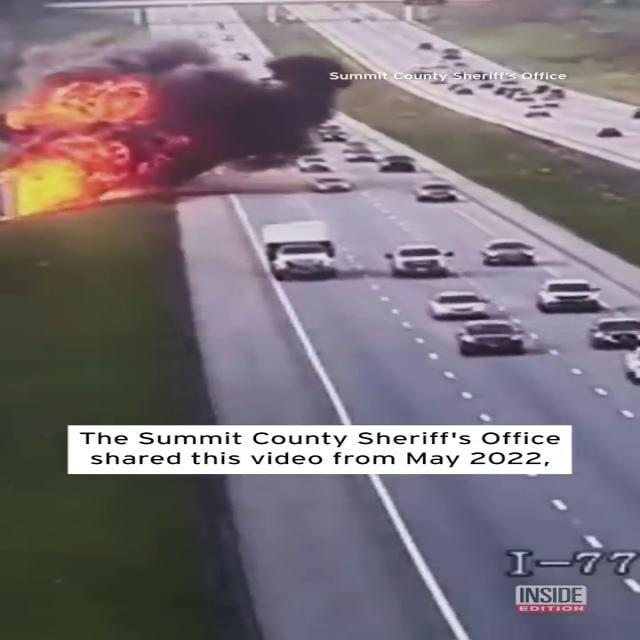Fire: (1, 154, 119, 223)
Smoke: (5, 5, 361, 166)
